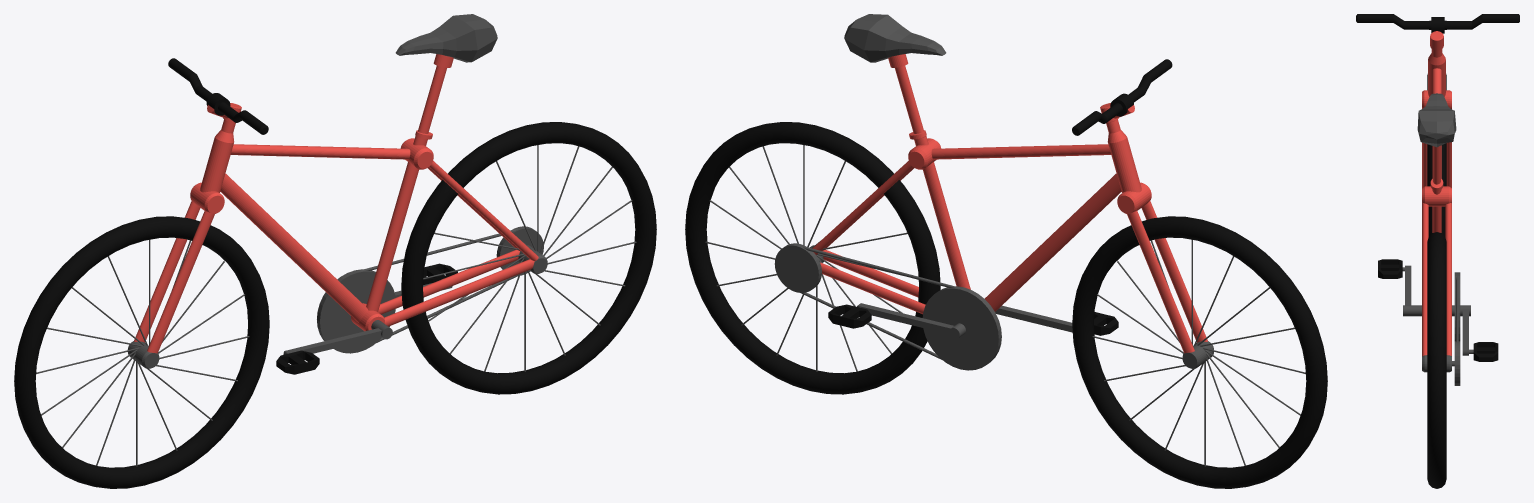
Rendered from bycicle.glb.
3 views of the same model, side by side, from view 1: azimuth 30°, elevation 25°; view 2: azimuth 150°, elevation 25°; view 3: azimuth 270°, elevation 25° (orthographic). The views are drawn at different scales.
Visible parts, largest first — view 1: Cylinder.021_4, BezierCircle.001_5; view 2: Cylinder.021_4, BezierCircle.001_5; view 3: Cylinder.021_4, BezierCircle.001_5.
Part boxes in pixels (<box>): Cylinder.021_4: <box>36,14,636,466</box>; BezierCircle.001_5: <box>14,122,656,488</box>; Cylinder.021_4: <box>705,14,1305,466</box>; BezierCircle.001_5: <box>685,122,1327,488</box>; Cylinder.021_4: <box>1356,14,1519,385</box>; BezierCircle.001_5: <box>1427,74,1446,488</box>.
Size of the model in its own units: 4.77 by 2.74 by 1.2.
